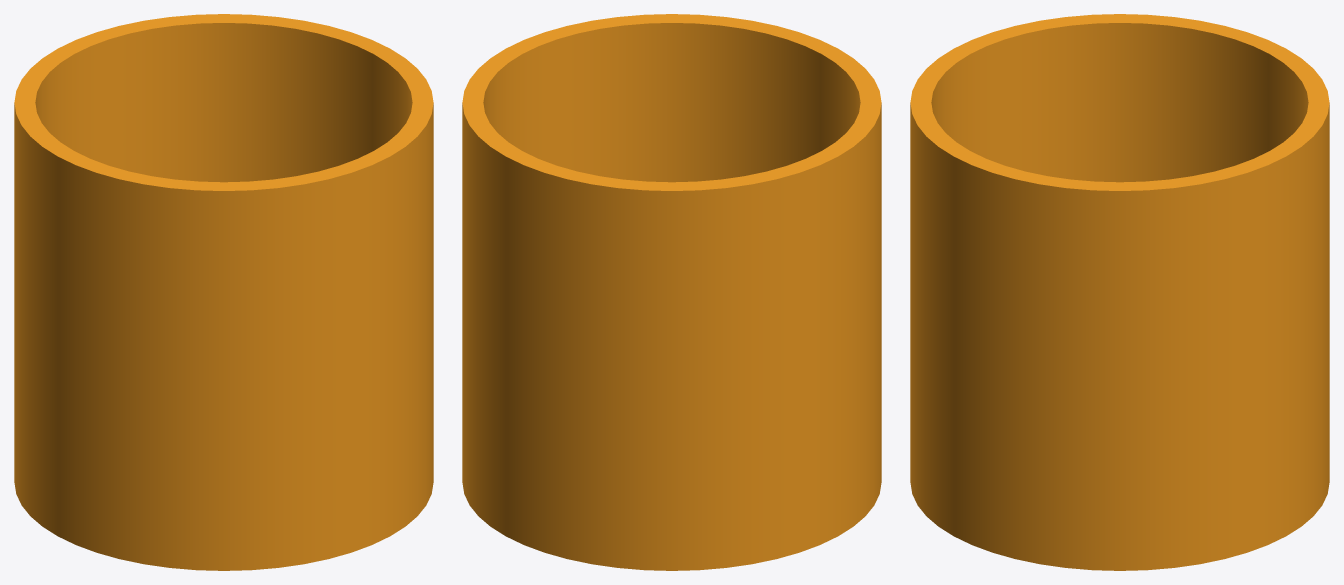
The picture shows the model from 3 angles, left to right: view 1: azimuth 30°, elevation 25°; view 2: azimuth 150°, elevation 25°; view 3: azimuth 270°, elevation 25°; orthographic projection.
Parts seen in each view (by area): view 1: SM_Primitive_Tube_05; view 2: SM_Primitive_Tube_05; view 3: SM_Primitive_Tube_05.
Part boxes in pixels (x1,y1,x2,y2): SM_Primitive_Tube_05: (14, 14, 433, 570); SM_Primitive_Tube_05: (462, 14, 881, 570); SM_Primitive_Tube_05: (910, 14, 1329, 570).
Size of the model in its own units: 100 by 100 by 100.
